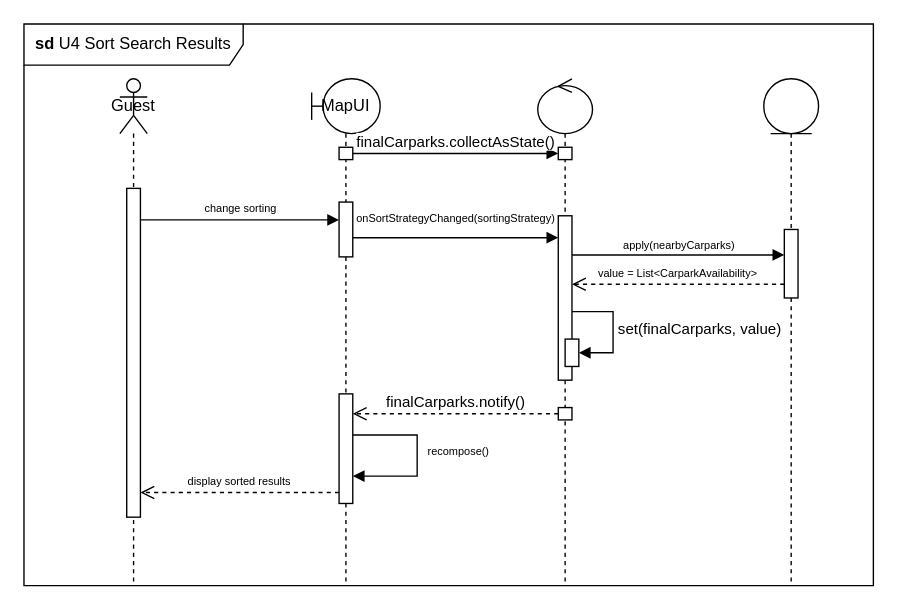
Some shapes in this 897 by 610 pixel diagram are drawn without their labels. Here are the shapes that lost their labels. From the top down, the box of each, then its label:
(536, 77, 593, 586): MapViewModel
(762, 77, 819, 586): SortingStrategy
